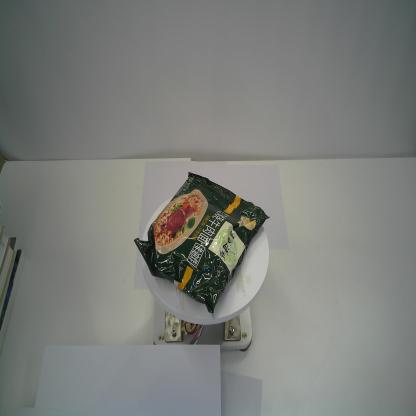Instant Noodles: (134, 172, 270, 314)
